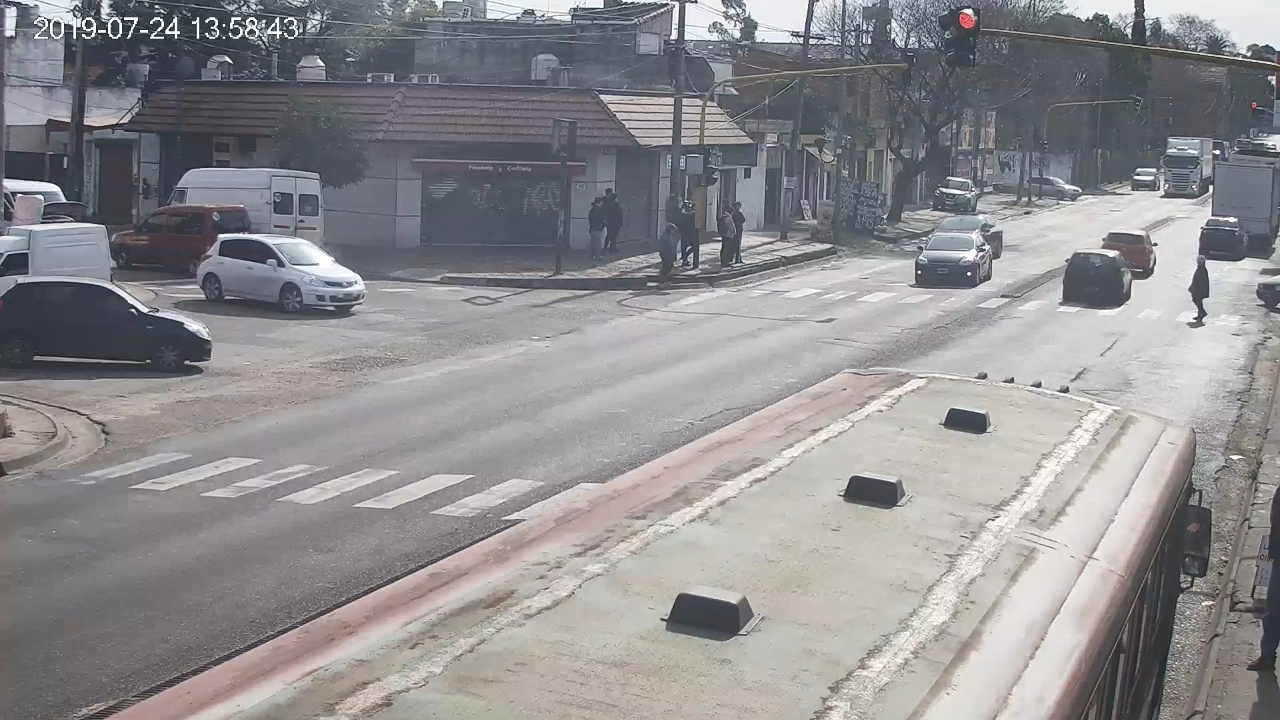bus: (95, 369, 1209, 720)
car: (1063, 249, 1135, 302)
front car: (197, 234, 365, 314), (915, 230, 993, 286)
traffic light: (957, 7, 980, 66)
